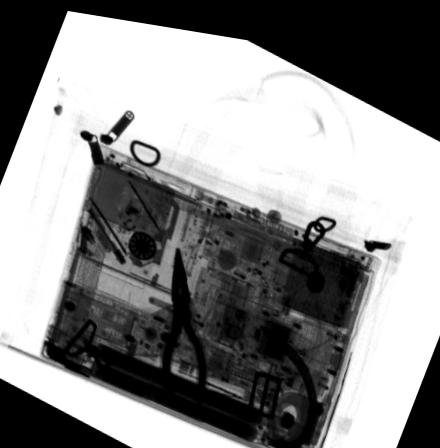Pliers: (159, 240, 207, 397)
